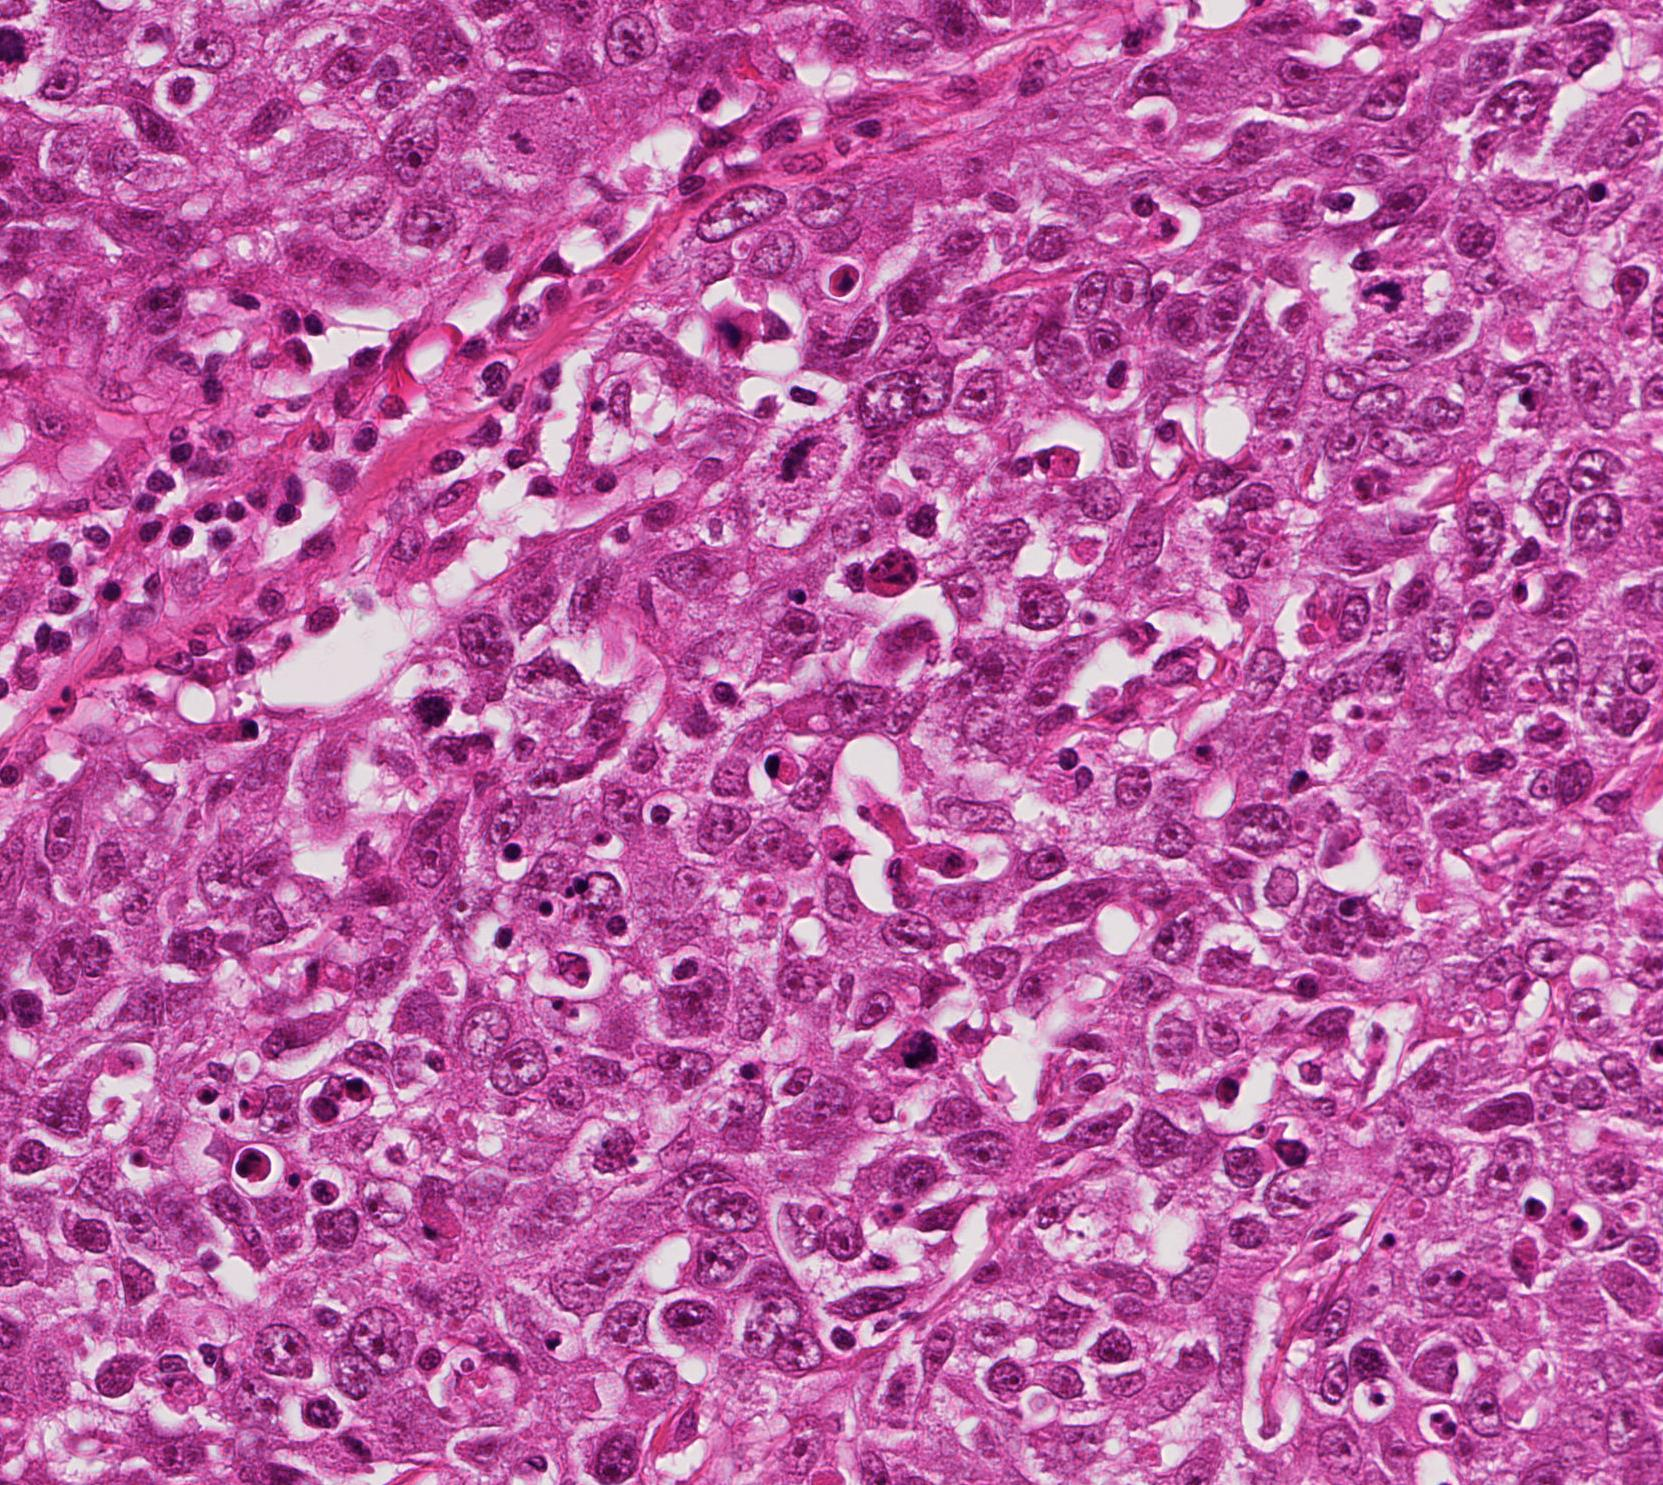mitosis: (317, 1413, 377, 1474)
